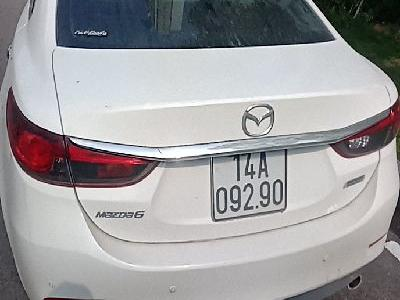car: (209, 144, 291, 223)
